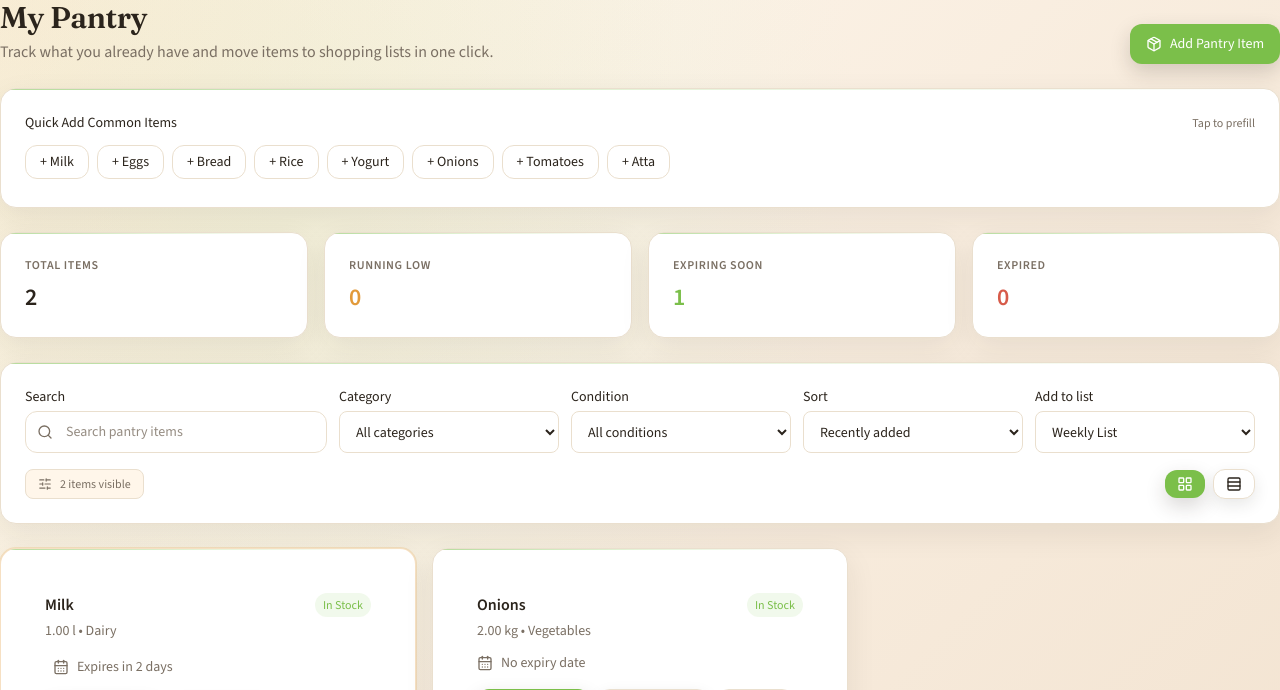
Scenario: PantryPage integration behavior › opens add modal from quick add and prefills item name
Click the button "+ Milk": (57, 162) [25,145,89,179]
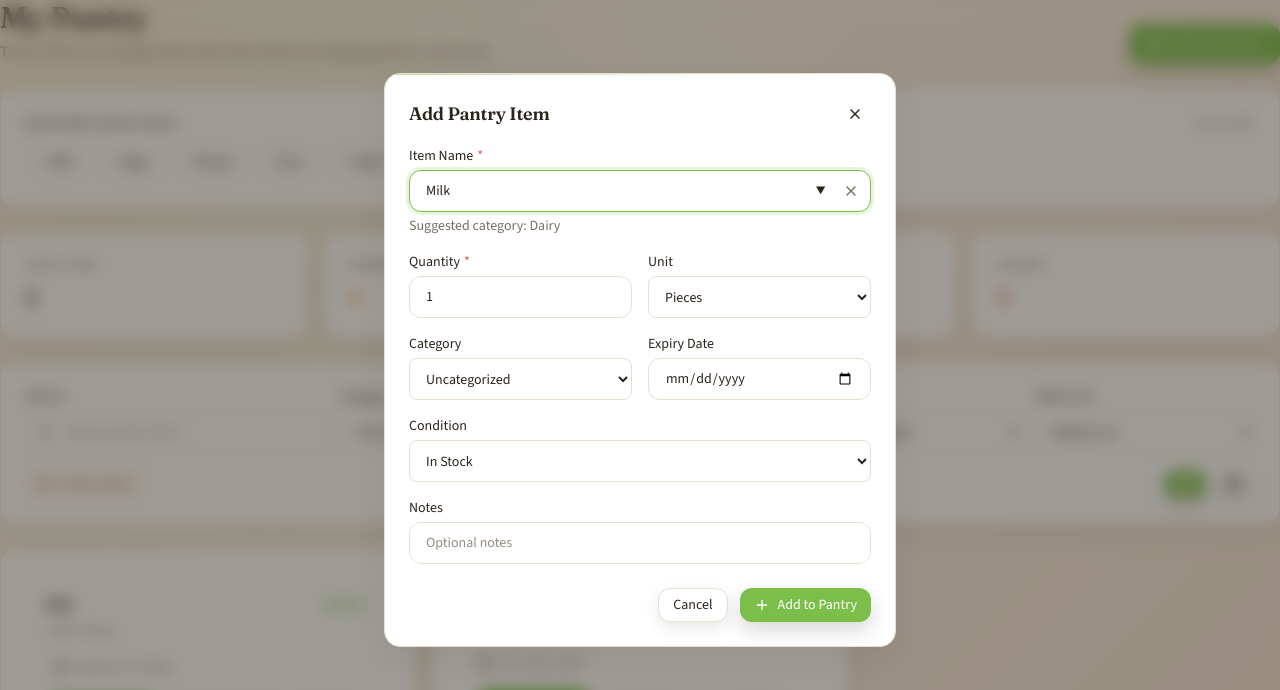
Expected: the heading "Add Pantry Item" is shown, [409,100,549,128]
Expected: the field labelled "Item Name*" holds "Milk", [409,170,871,212]
